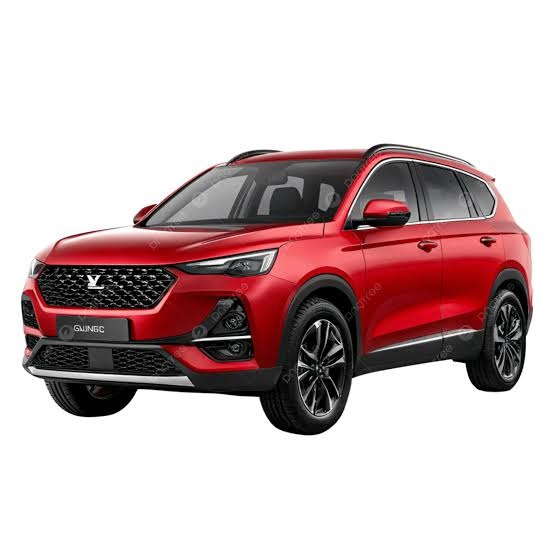car: (16, 145, 535, 443), (16, 159, 533, 422)
